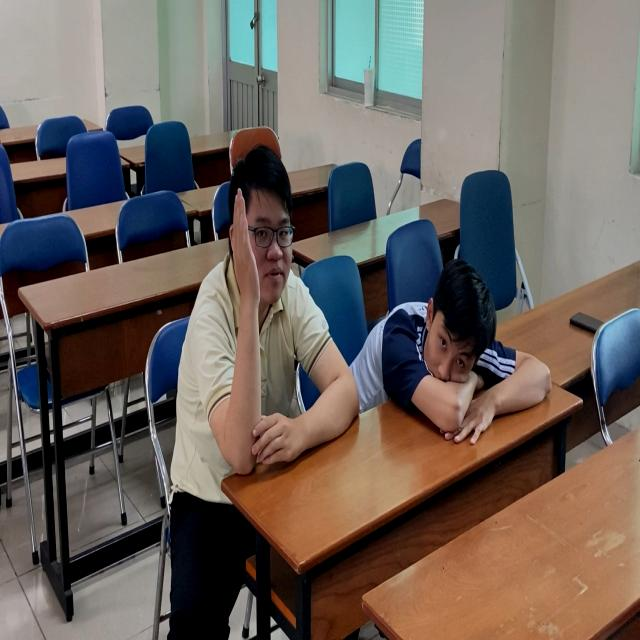raise_hand: (184, 147, 362, 489)
sleep: (363, 251, 558, 444)
